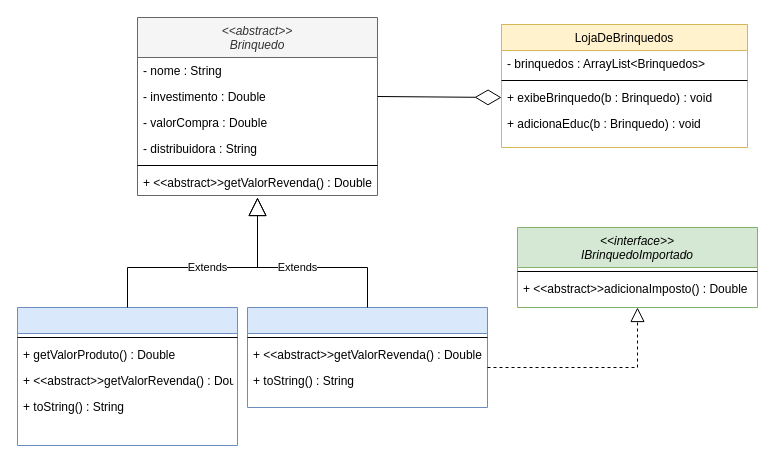
The diagram is 775 pixels wide and 463 high, and some of its shapes have lost their labels. The shapes that lost their labels are listed below. From the top down, each one's box as (x1, y1, x2, y2) in pixels, then its label:
(16, 306, 238, 446): ActionFigure
(246, 306, 488, 408): CuboMagico
